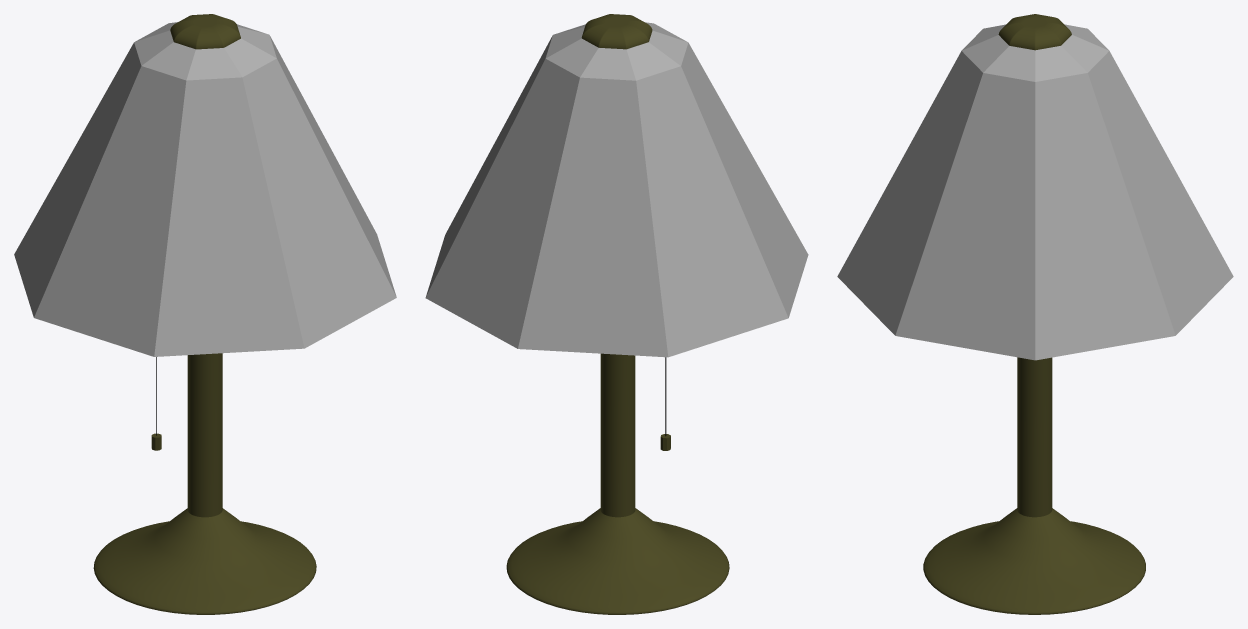
Rendered from tableLamp.fbx.
The picture shows the model from 3 angles, left to right: view 1: azimuth 30°, elevation 25°; view 2: azimuth 150°, elevation 25°; view 3: azimuth 270°, elevation 25°; orthographic projection.
Parts seen in each view (by area): view 1: pPipe2, pSphere6, pCylinder8; view 2: pPipe2, pSphere6, pCylinder8; view 3: pPipe2, pSphere6, pCylinder8.
Part boxes in pixels (left/top/right/bottom): pPipe2: left=14, top=22, right=396, bottom=356; pSphere6: left=93, top=353, right=316, bottom=614; pCylinder8: left=170, top=14, right=240, bottom=49; pPipe2: left=425, top=22, right=808, bottom=357; pSphere6: left=506, top=353, right=729, bottom=614; pCylinder8: left=581, top=14, right=652, bottom=49; pPipe2: left=837, top=24, right=1233, bottom=360; pSphere6: left=923, top=357, right=1145, bottom=614; pCylinder8: left=998, top=14, right=1071, bottom=50.
Bounding box in the file's own units: 14.87 × 22.62 × 14.87.
